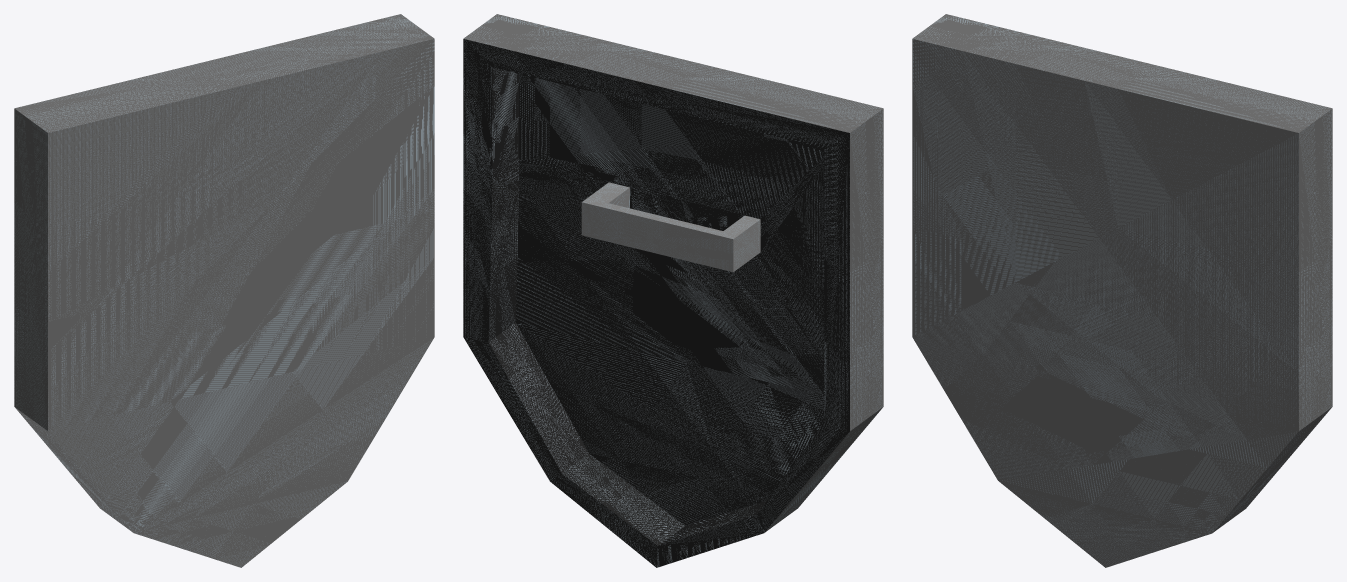
Rendered from armorPickable.dae.
The picture shows the model from 3 angles, left to right: view 1: azimuth 30°, elevation 25°; view 2: azimuth 150°, elevation 25°; view 3: azimuth 330°, elevation 25°; orthographic projection.
Parts seen in each view (by area): view 1: SketchUp; view 2: SketchUp (×4); view 3: SketchUp.
Part boxes in pixels (box(x1,y1,x2,y2)): SketchUp: box(14, 14, 434, 567); SketchUp (×4): box(463, 14, 883, 567); SketchUp: box(912, 14, 1332, 567).
Size of the model in its own units: 135 by 20.47 by 161.
